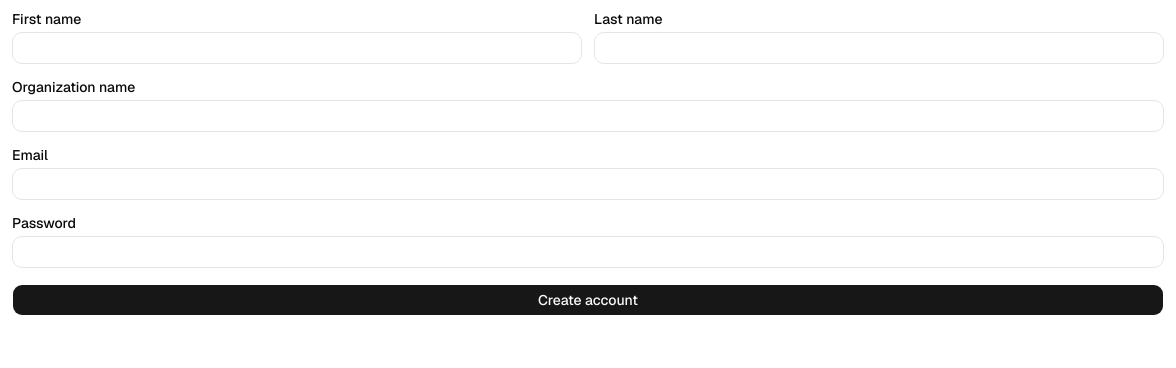
Test: SignupForm › asks for a name before sending anything
The image size is (1176, 368).
Step 1. Type "Acme" into the field labelled "Organization name" → (588, 116), box x1=12 y1=100 x2=1164 y2=132
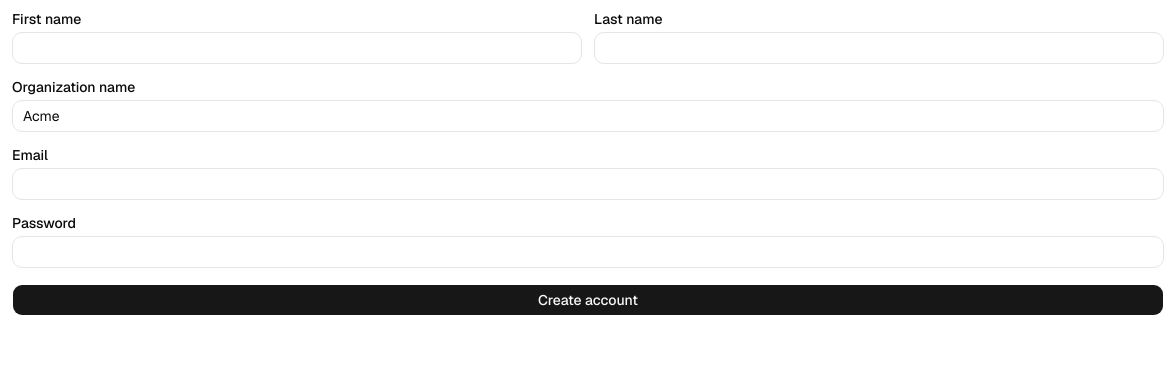
Step 2. Type "ada@example.com" into the field labelled "Email" → (588, 184), box x1=12 y1=168 x2=1164 y2=200
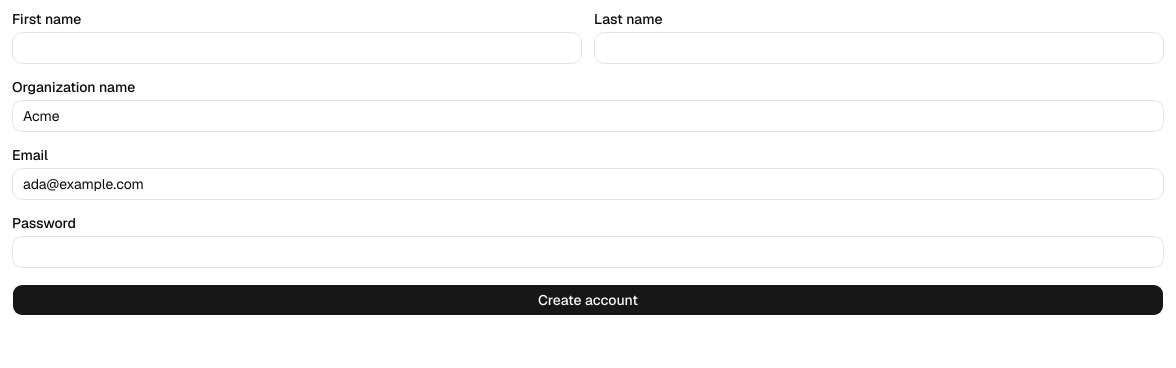
Step 3. Type "correct-horse-battery" into the password field labelled "Password" → (588, 252), box x1=12 y1=236 x2=1164 y2=268
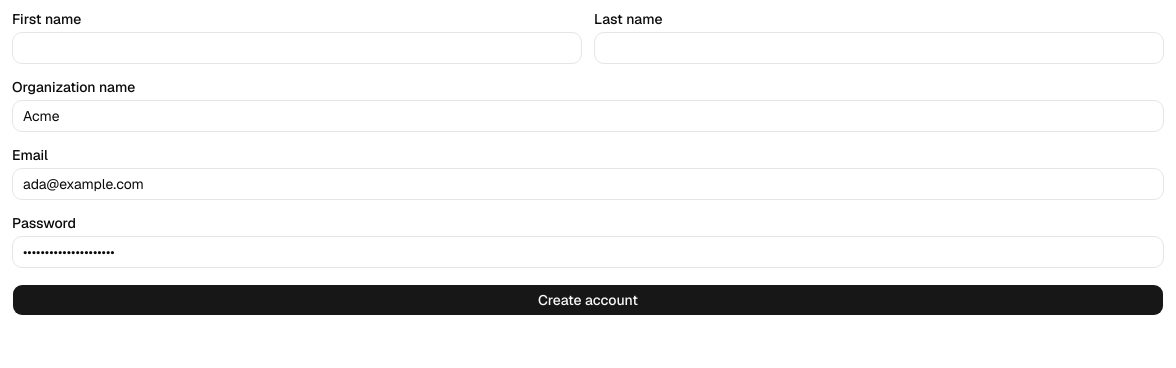
Step 4. Click the button "Create account" → (588, 300), box x1=12 y1=284 x2=1164 y2=316
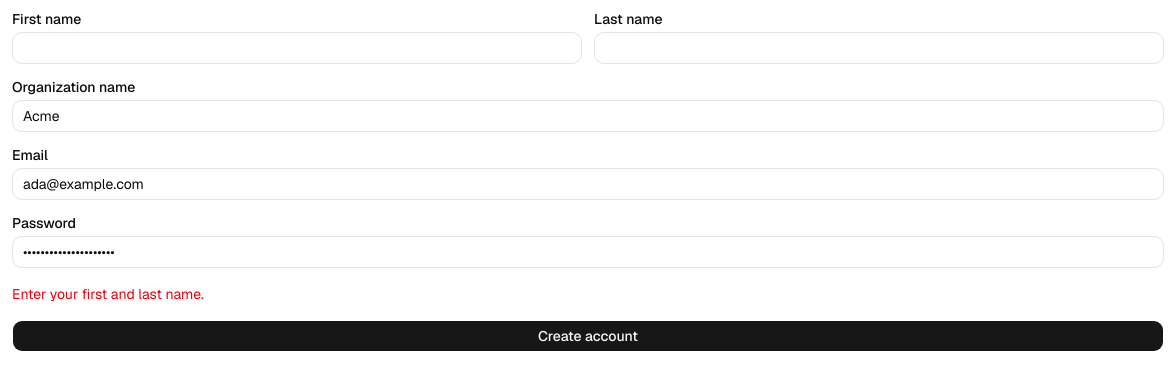
Expected: the message reads "Enter your first and last name.", x1=12 y1=285 x2=204 y2=303
